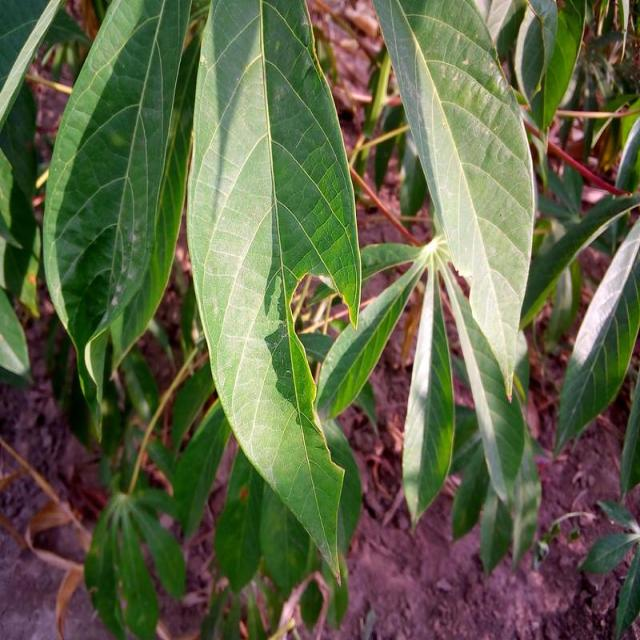cassava leaf: (185, 0, 362, 589), (40, 0, 194, 442), (370, 0, 537, 402)
